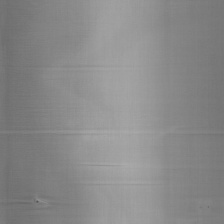rolled_pit: (29, 191, 50, 211)
